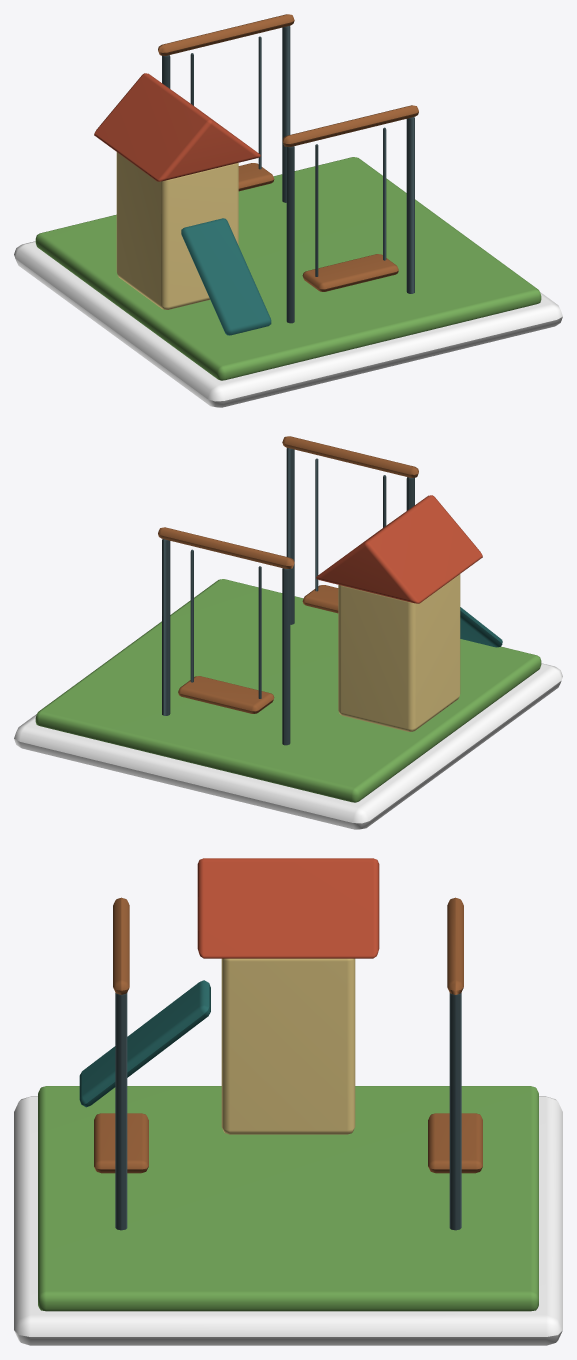
File: playground.glb
3 views of the same model, one above another, from view 1: azimuth 30°, elevation 25°; view 2: azimuth 150°, elevation 25°; view 3: azimuth 270°, elevation 25° (orthographic). The views are drawn at different scales.
Parts seen in each view (by area): view 1: Play surface, Pavement, Play tower, Gabled roof, Slide, Batch_Dark metal_, Batch_Honey wood_, Swing seat, Batch_Dark metal_SwingFront, Swing seat.001, Batch_Dark metal_SwingBack; view 2: Play surface, Pavement, Play tower, Gabled roof, Batch_Dark metal_, Batch_Honey wood_, Swing seat.001, Batch_Dark metal_SwingBack, Slide, Swing seat, Batch_Dark metal_SwingFront; view 3: Play surface, Pavement, Play tower, Gabled roof, Batch_Dark metal_, Slide, Batch_Honey wood_, Swing seat, Swing seat.001.
Part boxes in pixels (left/top/right/bottom): Play surface: left=35, top=157, right=541, bottom=380; Pavement: left=14, top=241, right=562, bottom=407; Play tower: left=116, top=152, right=238, bottom=309; Gabled roof: left=94, top=73, right=260, bottom=181; Slide: left=181, top=218, right=271, bottom=335; Batch_Dark metal_: left=162, top=26, right=414, bottom=323; Batch_Honey wood_: left=158, top=14, right=418, bottom=146; Swing seat: left=302, top=254, right=398, bottom=291; Batch_Dark metal_SwingFront: left=315, top=127, right=386, bottom=276; Swing seat.001: left=238, top=163, right=274, bottom=191; Batch_Dark metal_SwingBack: left=190, top=36, right=261, bottom=169; Play surface: left=35, top=579, right=541, bottom=802; Pavement: left=14, top=663, right=562, bottom=829; Play tower: left=338, top=574, right=460, bottom=731; Gabled roof: left=316, top=495, right=482, bottom=603; Batch_Dark metal_: left=162, top=448, right=414, bottom=745; Batch_Honey wood_: left=158, top=436, right=418, bottom=568; Swing seat.001: left=178, top=676, right=274, bottom=713; Batch_Dark metal_SwingBack: left=190, top=549, right=261, bottom=698; Slide: left=460, top=607, right=502, bottom=647; Swing seat: left=302, top=585, right=338, bottom=613; Batch_Dark metal_SwingFront: left=315, top=458, right=386, bottom=591; Play surface: left=38, top=1086, right=538, bottom=1311; Pavement: left=14, top=1096, right=562, bottom=1345; Play tower: left=221, top=958, right=355, bottom=1134; Gabled roof: left=197, top=858, right=379, bottom=958; Batch_Dark metal_: left=115, top=993, right=461, bottom=1230; Slide: left=79, top=980, right=210, bottom=1107; Batch_Honey wood_: left=113, top=897, right=463, bottom=994; Swing seat: left=94, top=1113, right=148, bottom=1173; Swing seat.001: left=428, top=1113, right=482, bottom=1173.
Bounding box in the file's own units: 2.3 × 1.41 × 2.3.
